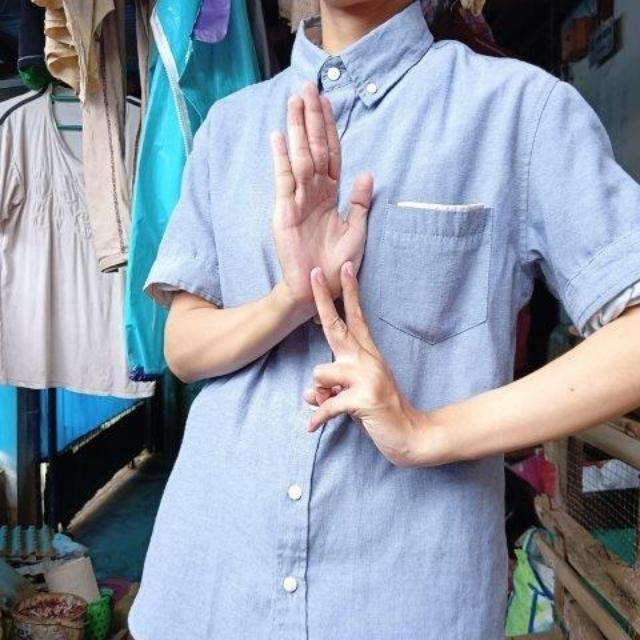N: (258, 77, 410, 410)
